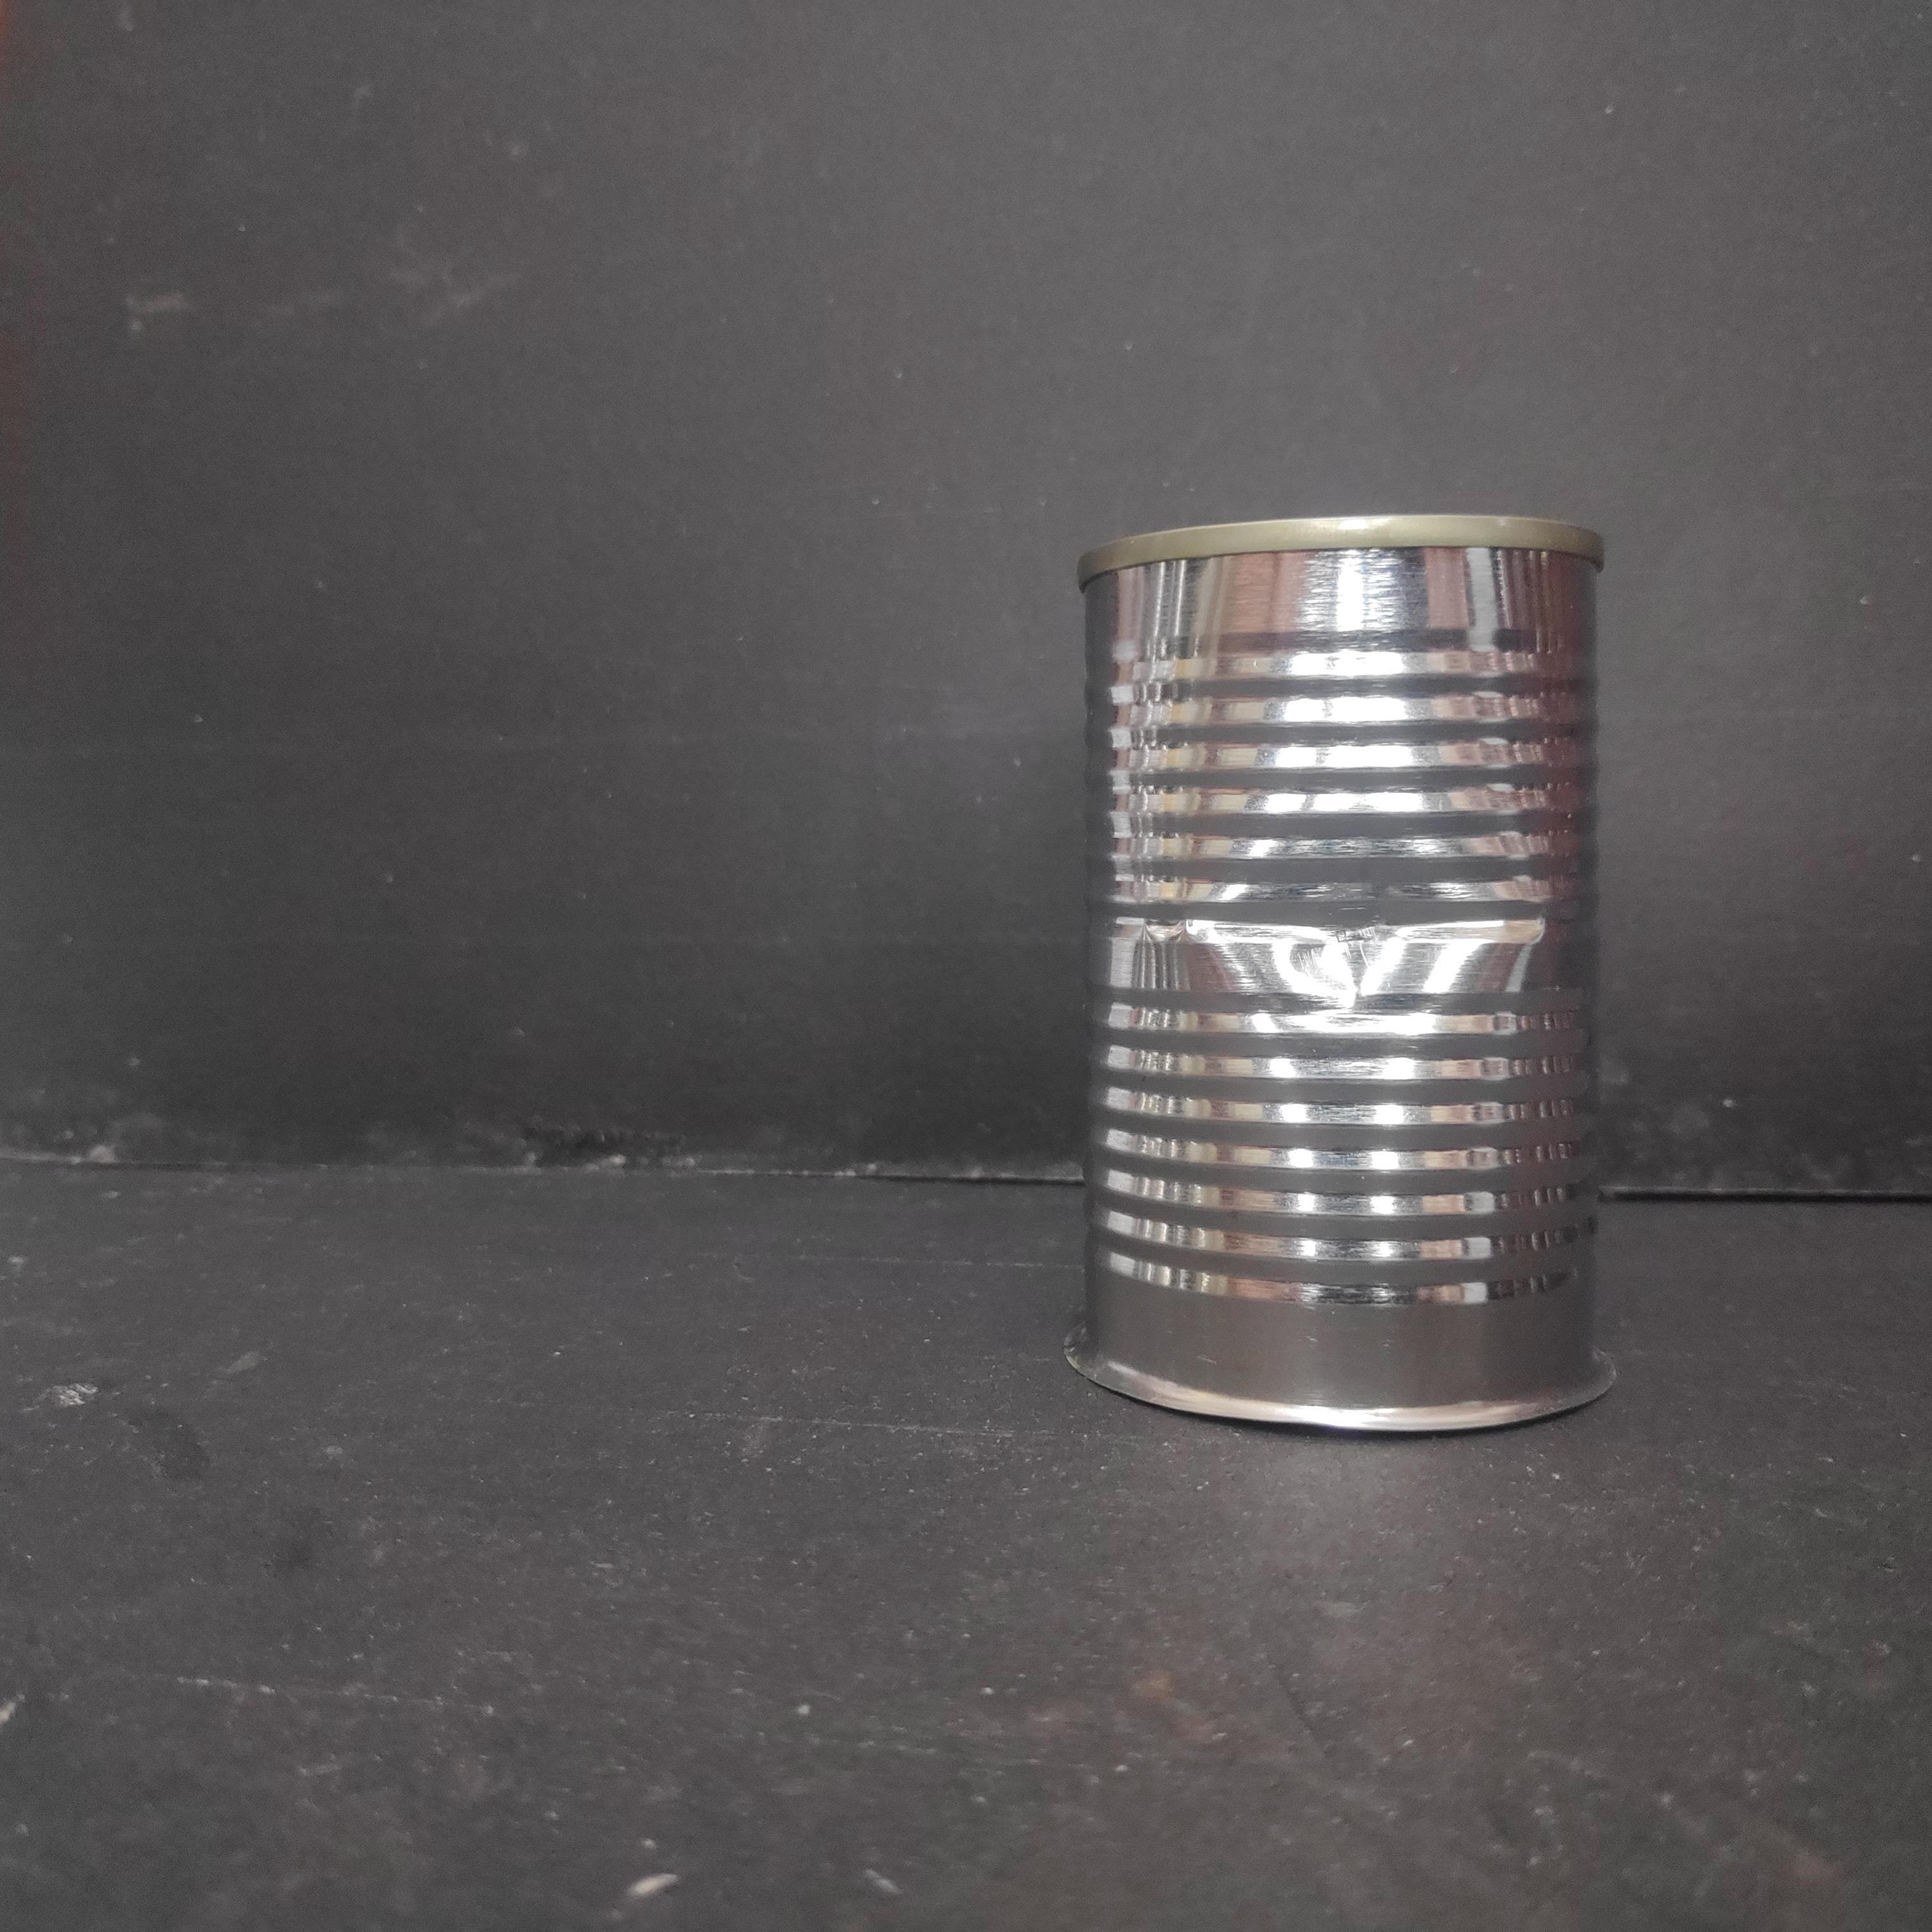Minor Defect: (1062, 508, 1626, 1437)
